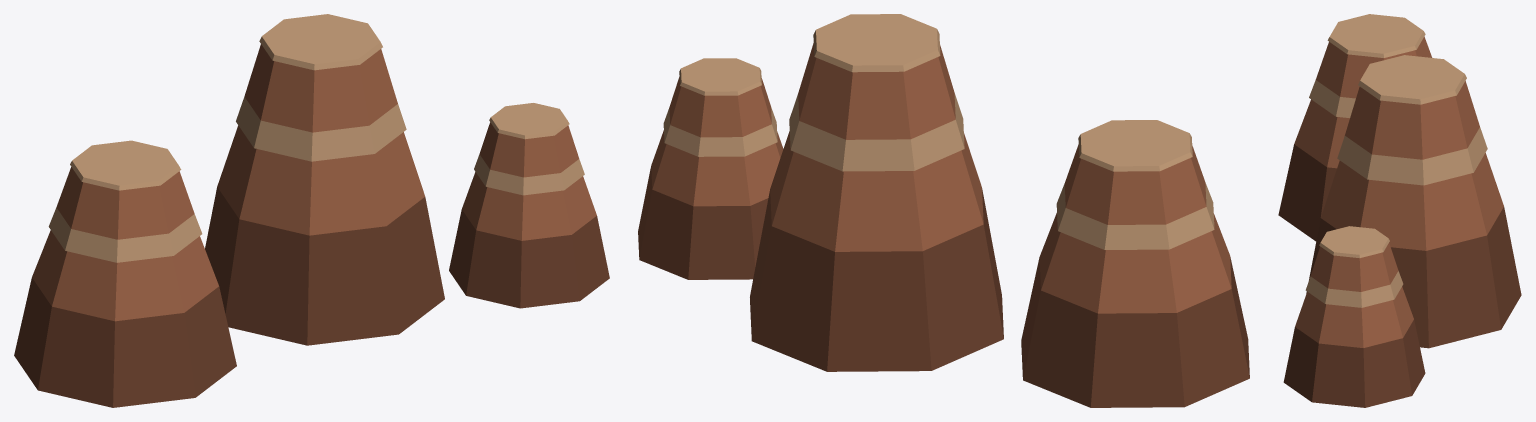
File: Desert_MesaBackdrop_Simple.glb
3 renders of one model, left to right at view 1: azimuth 30°, elevation 25°; view 2: azimuth 150°, elevation 25°; view 3: azimuth 270°, elevation 25°, orthographic. The views are drawn at different scales.
Parts seen in each view (by area): view 1: Desert_MesaBackdrop_Simple; view 2: Desert_MesaBackdrop_Simple; view 3: Desert_MesaBackdrop_Simple.
Boxes of the visible parts, x1,y1,x2,y2 form: Desert_MesaBackdrop_Simple: (14, 14, 609, 407); Desert_MesaBackdrop_Simple: (638, 14, 1249, 407); Desert_MesaBackdrop_Simple: (1278, 14, 1521, 407).
Bounding box in the file's own units: 20.63 × 9 × 8.81.
